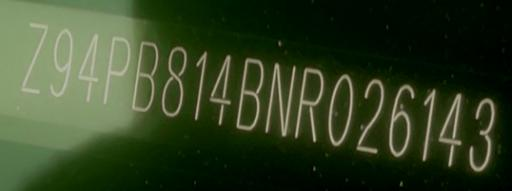letter: (264, 59, 296, 138), (292, 67, 324, 144), (355, 75, 385, 156), (235, 57, 265, 132), (19, 19, 49, 94), (325, 73, 355, 146), (102, 34, 132, 105), (468, 96, 496, 172), (387, 84, 415, 159), (438, 90, 464, 169), (74, 31, 102, 104), (48, 26, 74, 99), (132, 39, 158, 112), (161, 44, 187, 117), (208, 50, 232, 127), (418, 86, 438, 163), (190, 49, 208, 122)
